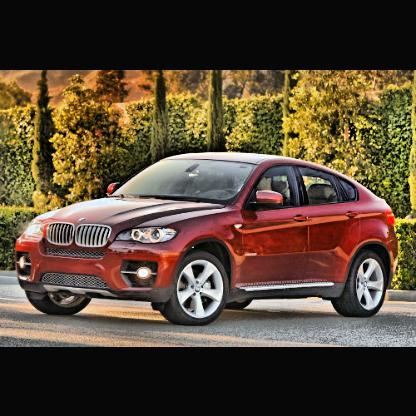BMW X6 SUV 2012: (17, 153, 401, 327)
